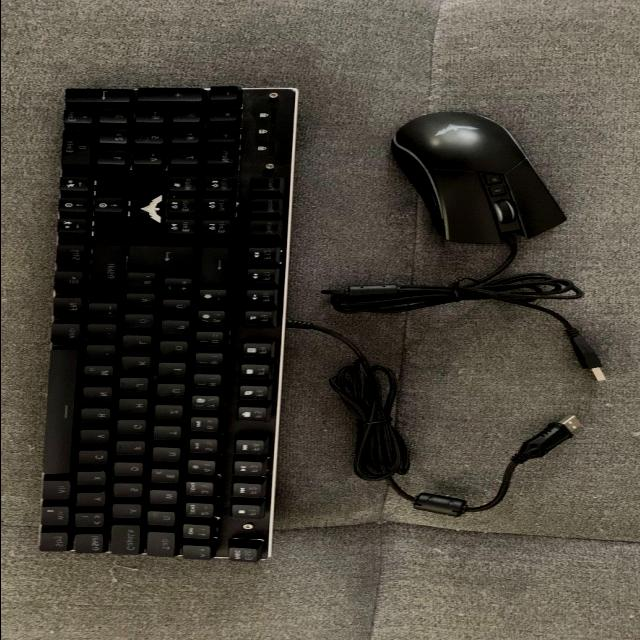0: (197, 332, 227, 348)
1: (184, 525, 214, 541)
2: (187, 504, 218, 520)
3: (187, 482, 217, 498)
4: (189, 460, 219, 476)
5: (190, 439, 221, 455)
6: (192, 418, 223, 434)
7: (193, 396, 223, 412)
8: (194, 374, 224, 390)
9: (197, 354, 227, 370)
a: (114, 506, 145, 520)
accent: (201, 290, 231, 306)
ae: (127, 294, 158, 310)
alt-left: (45, 482, 73, 502)
altgr-right: (55, 324, 83, 346)
b: (83, 409, 114, 425)
c: (80, 451, 111, 467)
caret: (184, 546, 213, 561)
comma: (88, 346, 119, 361)
d: (116, 464, 148, 478)
del: (202, 248, 232, 284)
e: (153, 469, 183, 485)
enter: (129, 247, 197, 274)
f: (118, 443, 148, 457)
g: (119, 420, 150, 436)
h: (121, 399, 151, 415)
hash: (128, 273, 159, 289)
i: (161, 363, 190, 379)
j: (122, 379, 152, 394)
k: (123, 357, 154, 373)
keyboard: (30, 82, 304, 566)
l: (125, 336, 156, 352)
less: (77, 514, 108, 530)
m: (86, 367, 116, 383)
minus: (91, 304, 121, 320)
n: (85, 388, 115, 404)
o: (162, 342, 192, 358)
oe: (125, 315, 157, 330)
p: (163, 321, 193, 336)
plus: (166, 279, 196, 295)
point: (89, 325, 119, 341)
q: (149, 512, 179, 527)
r: (154, 448, 184, 464)
s: (115, 484, 146, 499)
shift-left: (75, 535, 107, 555)
shift-lock: (112, 525, 144, 557)
shift-right: (92, 246, 124, 299)
space: (47, 350, 79, 477)
ss: (199, 311, 229, 327)
strg-left: (43, 533, 71, 553)
strg-right: (59, 245, 87, 267)
t: (156, 427, 186, 442)
tab: (148, 533, 179, 559)
u: (159, 384, 189, 400)
ue: (164, 301, 195, 316)
v: (82, 430, 113, 445)
w: (151, 490, 181, 506)
x: (78, 472, 109, 487)
y: (78, 493, 109, 508)
z: (157, 406, 187, 422)
